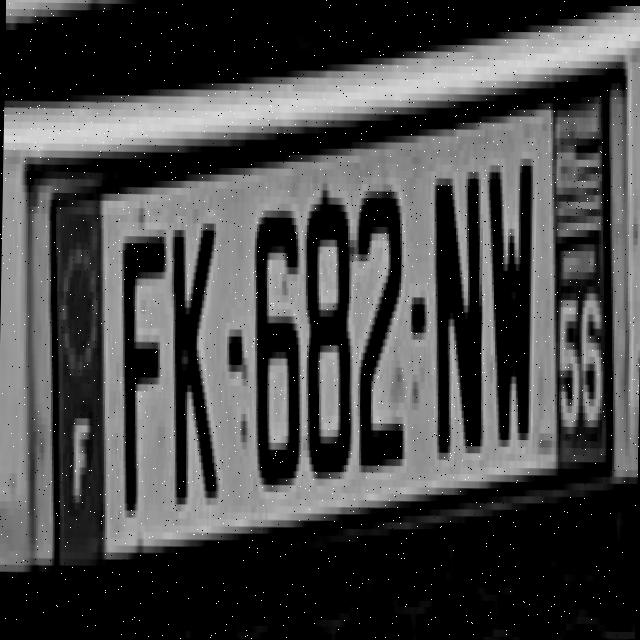EU: (31, 45, 629, 573)
France: (49, 186, 103, 561)
